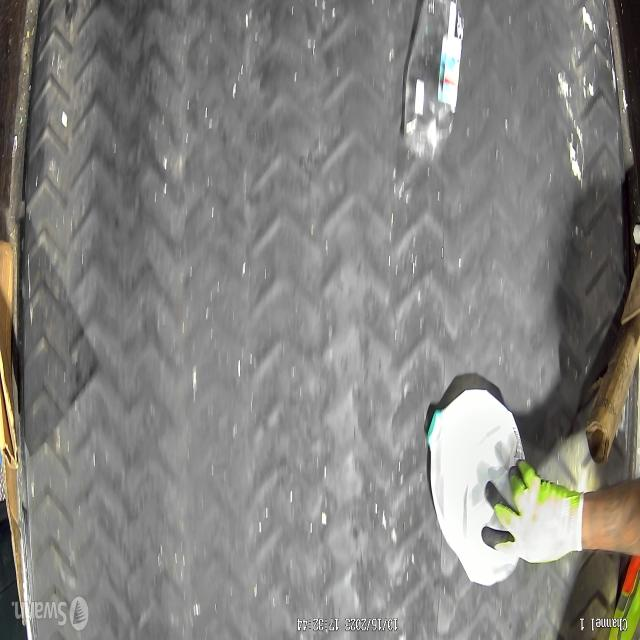milk_jug: (422, 371, 528, 585), (402, 0, 468, 164)
